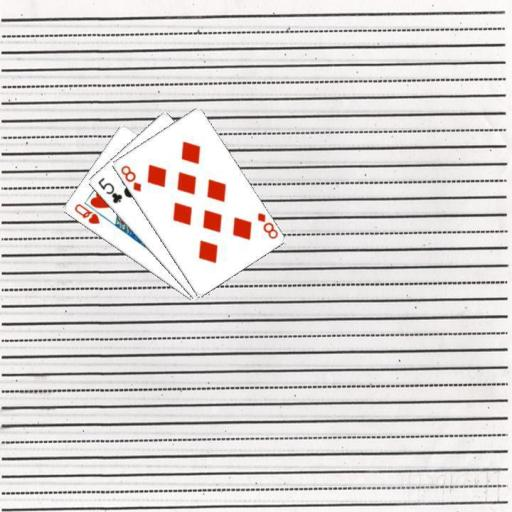card-corner: (94, 174, 124, 205), (117, 162, 143, 194), (71, 200, 101, 226), (254, 209, 279, 240)
